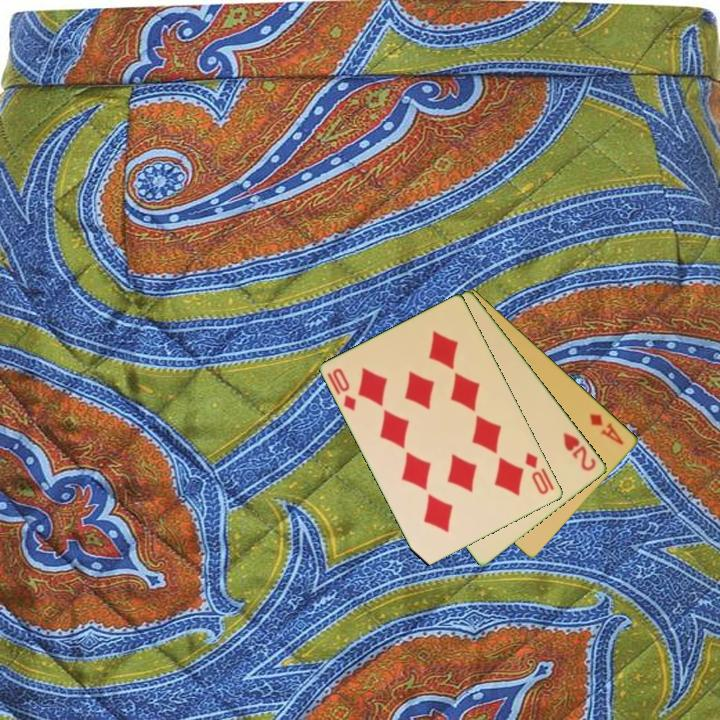10d: (324, 364, 360, 414), (522, 449, 552, 497)
2h: (560, 429, 599, 474)
Ad: (586, 410, 627, 448)
